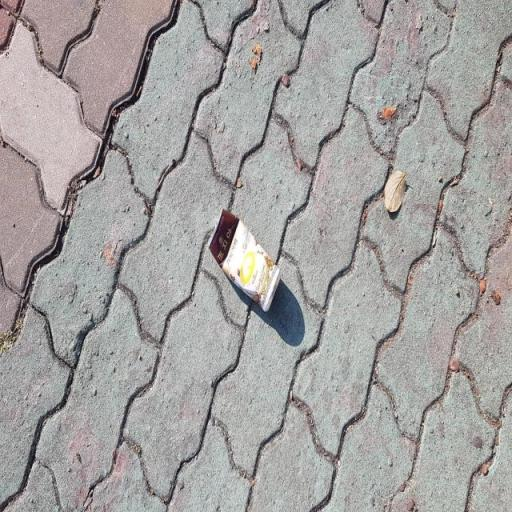metal: (196, 205, 294, 332)
